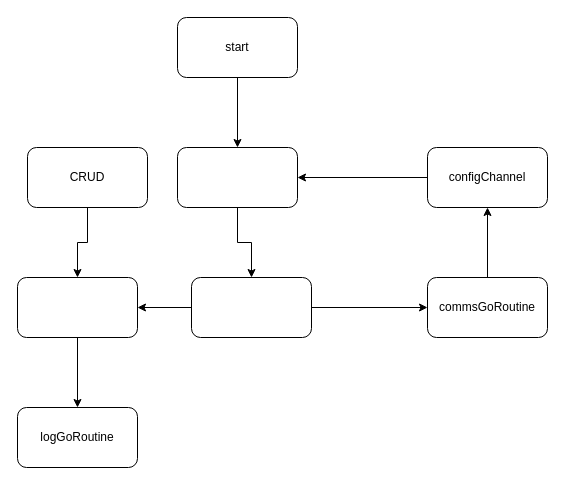
Some shapes in this 565 by 485 pixel diagram are drawn without their labels. The shapes that lost their labels are listed below. From the top down, each one's box as (x1, y1, x2, y2) in pixels, then its label:
(176, 146, 298, 208): configStructure
(16, 276, 138, 338): logChannel
(190, 276, 312, 338): app
